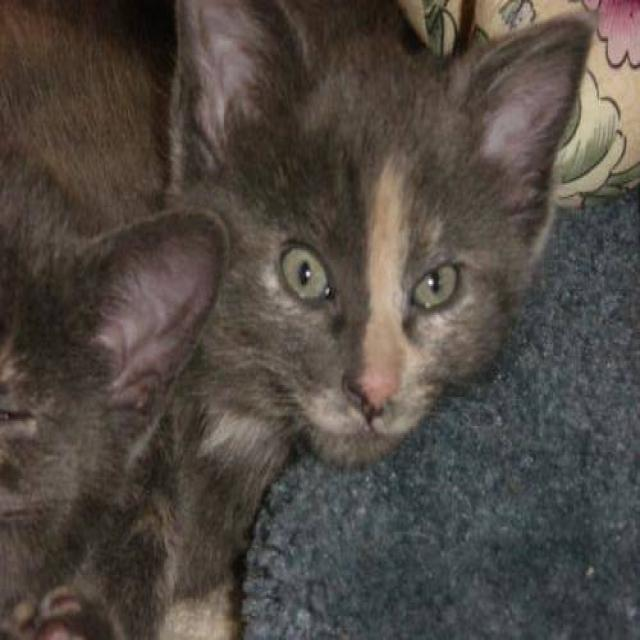Cat: (179, 4, 589, 479)
